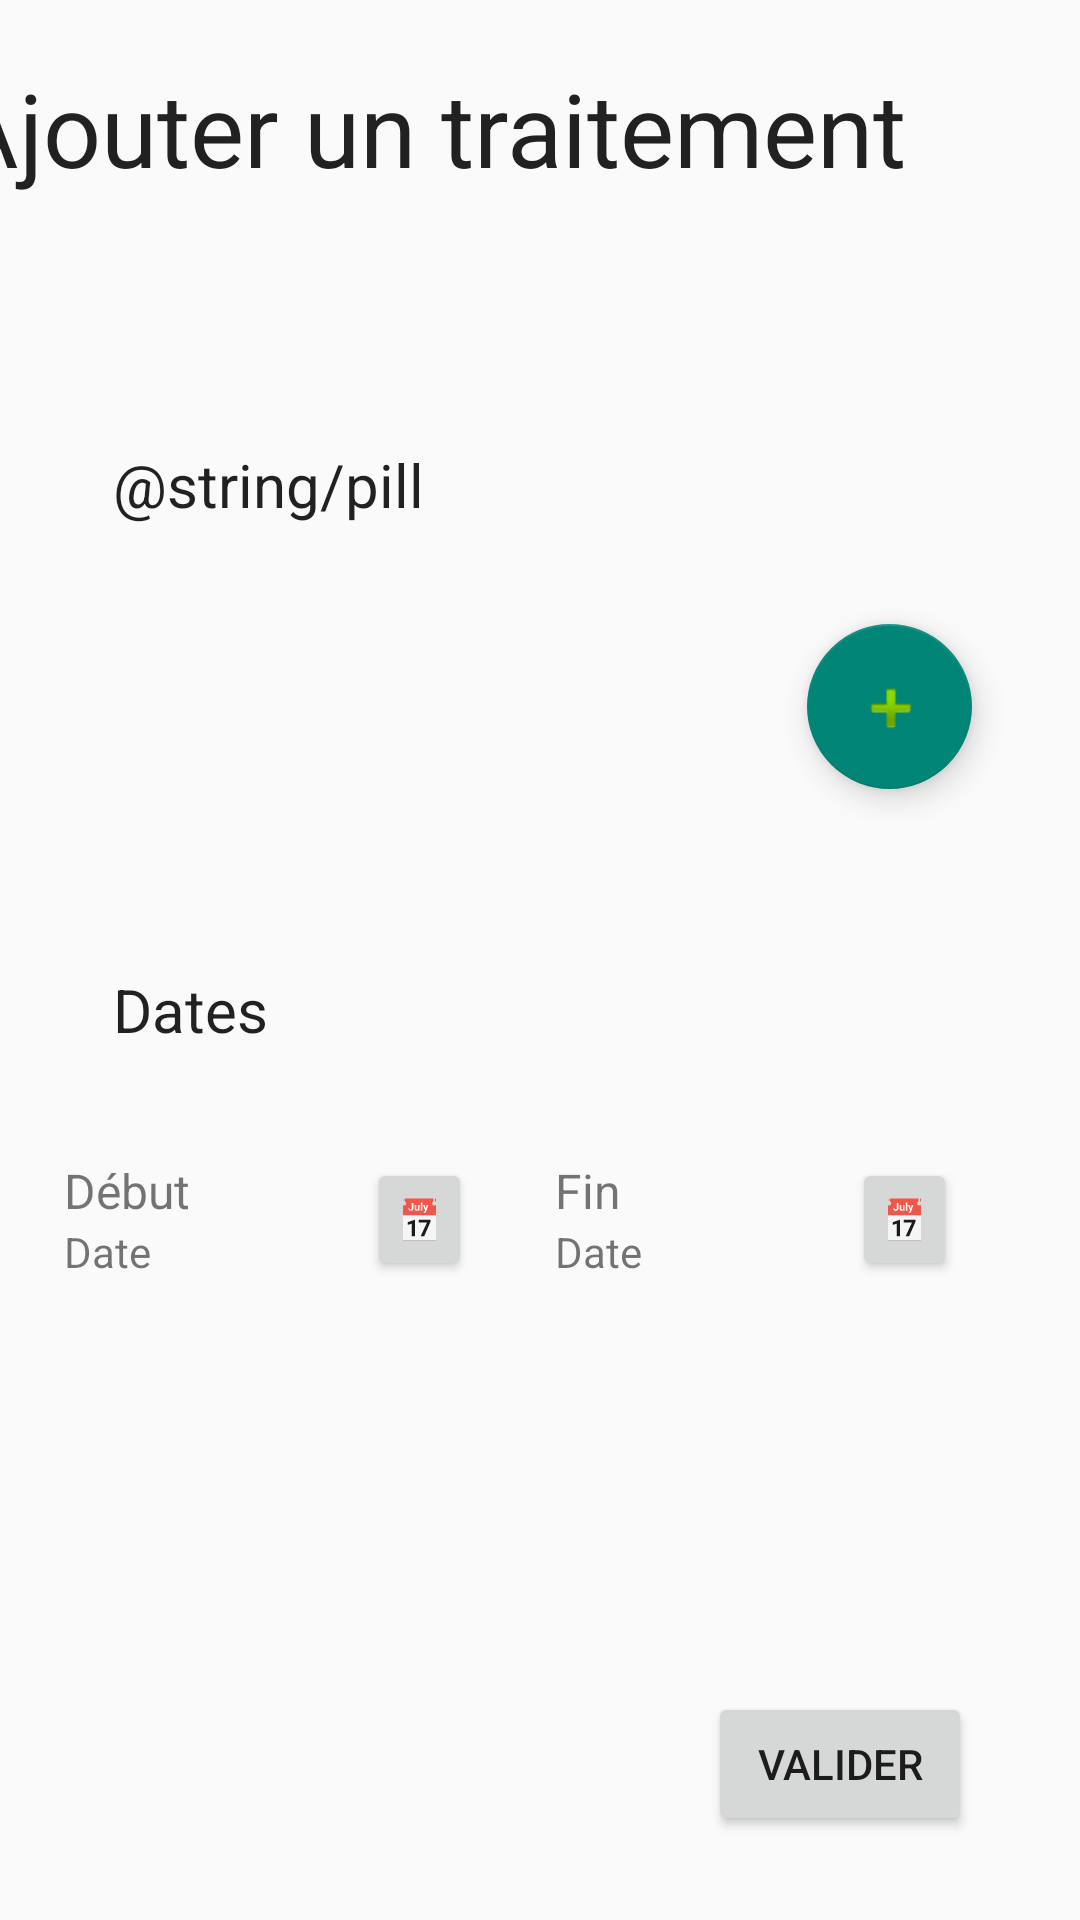

Icons on this 1080 × 1920 Android screen, each with its box as [left=x1, top=y1, right=x2, bottom=y2]:
add: [left=807, top=624, right=972, bottom=789]
